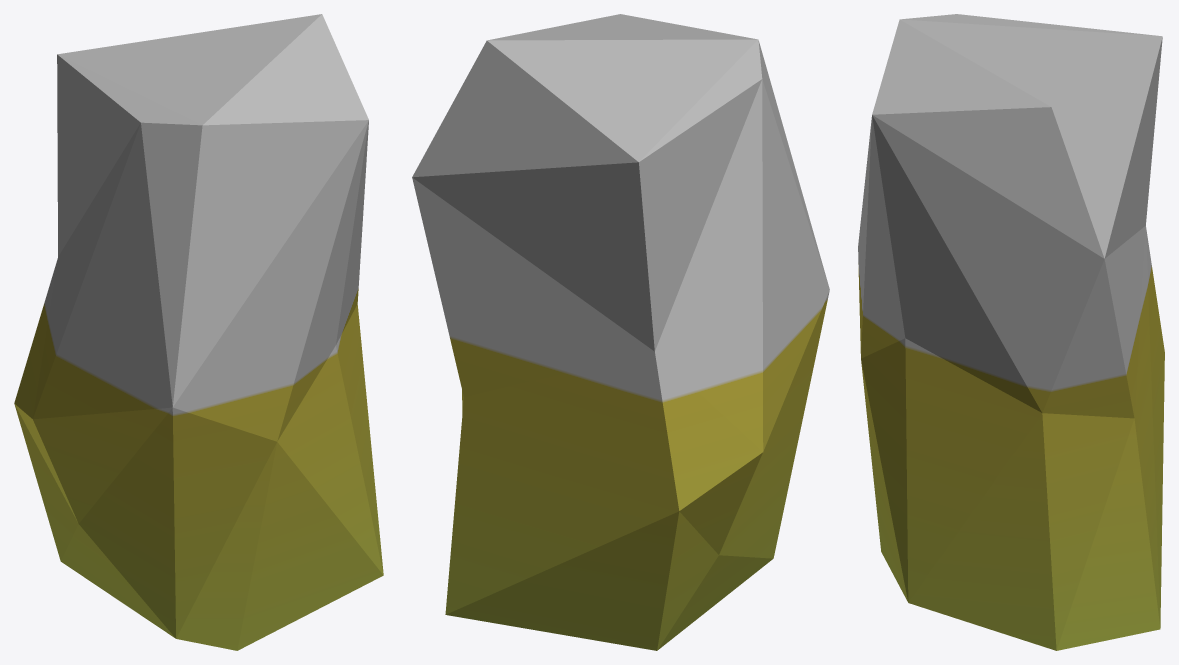
Rendered from BigRock_02.fbx.
The picture shows the model from 3 angles, left to right: view 1: azimuth 30°, elevation 25°; view 2: azimuth 150°, elevation 25°; view 3: azimuth 270°, elevation 25°; orthographic projection.
Visible parts, largest first — view 1: BigRock_02; view 2: BigRock_02; view 3: BigRock_02.
Part boxes in pixels (box(x1,y1,x2,y2)): BigRock_02: box(14, 14, 383, 650); BigRock_02: box(412, 14, 829, 650); BigRock_02: box(858, 14, 1164, 650).
Size of the model in its own units: 4.31 by 6.93 by 3.49.
